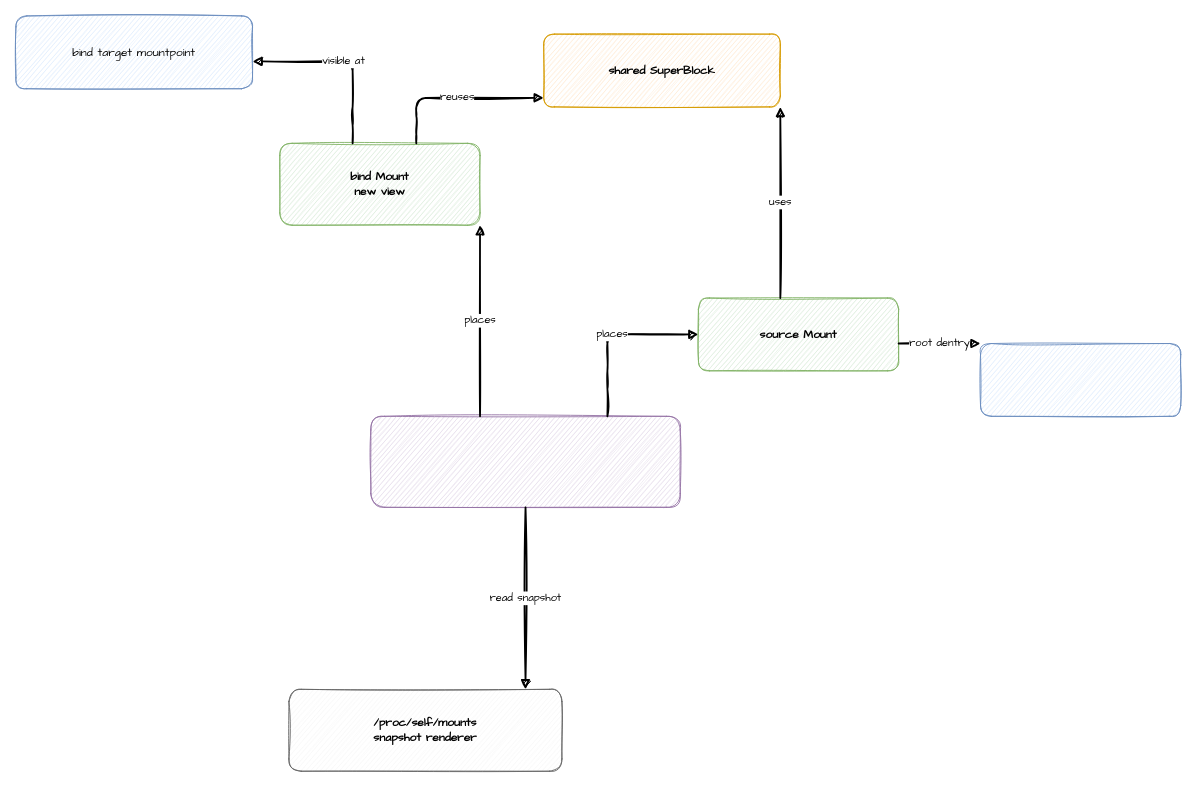
Image size: 1197x787. Some labels were removed from this diagram. Here are the shapes that lost their labels. From the top down, the centre of each, then its label:
the point at 1080,379: source root Dentry
the point at 525,461: MountTree attach / detach / move / remount writer
